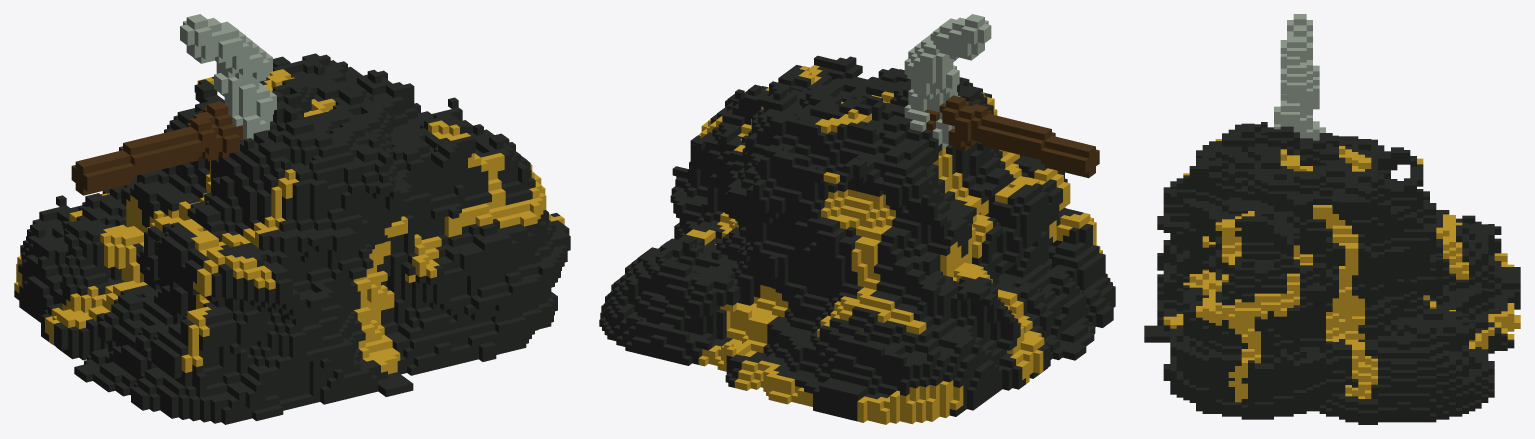
The model's file is Mine #1-1.obj.
3 renders of one model, left to right at view 1: azimuth 30°, elevation 25°; view 2: azimuth 150°, elevation 25°; view 3: azimuth 270°, elevation 25°, orthographic. The views are drawn at different scales.
Size of the model in its own units: 6.7 by 4.7 by 5.8.
Materials: 1 (1 with a texture image).
